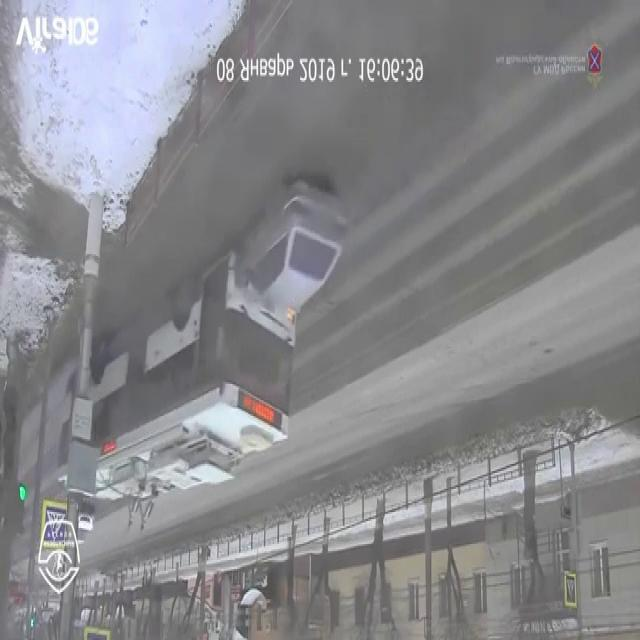severe: (9, 170, 352, 558)
